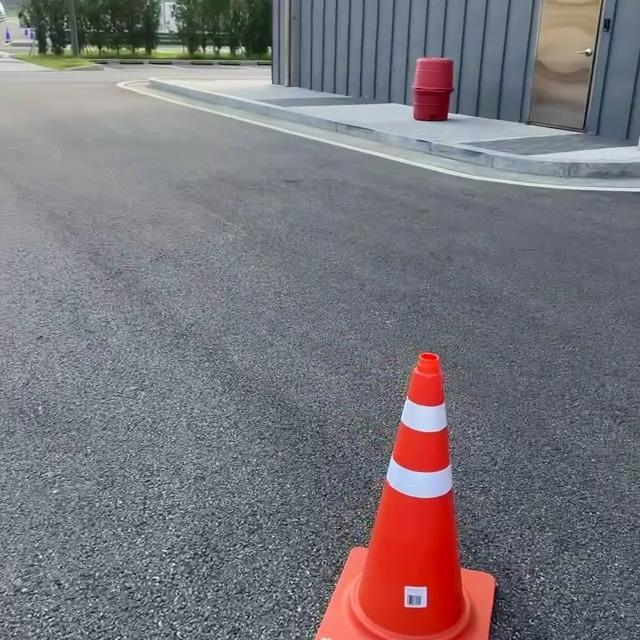fallen_object: (297, 297, 592, 640)
